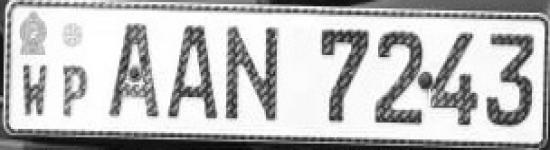2: (371, 21, 432, 131)
3: (487, 21, 539, 133)
4: (430, 24, 484, 132)
7: (310, 21, 372, 126)
A: (106, 16, 164, 122), (165, 18, 219, 125)
N: (218, 19, 288, 125)
P: (59, 57, 92, 122)
W: (20, 59, 55, 121)
